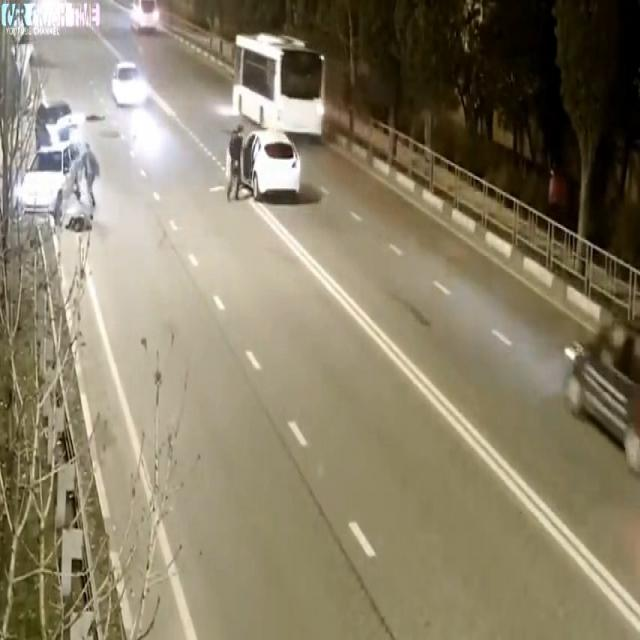Accident: (32, 106, 102, 270)
